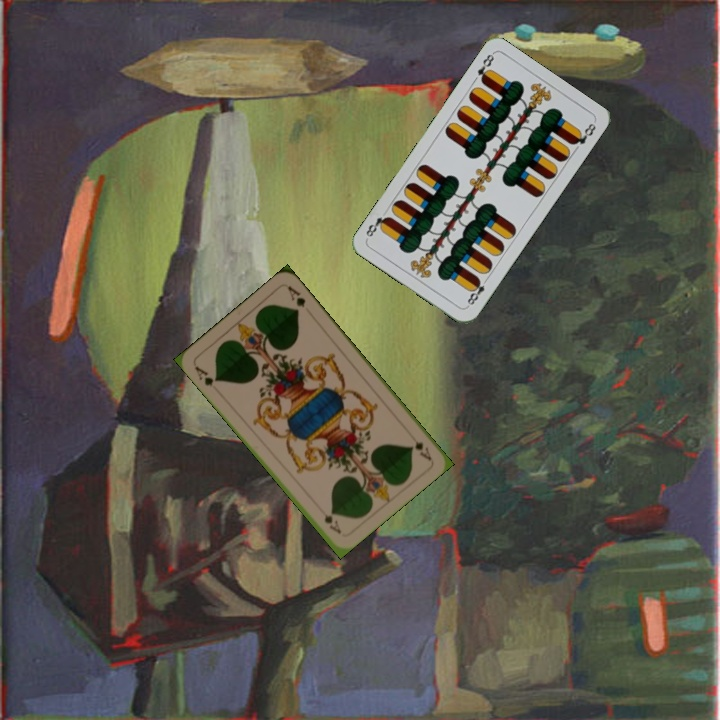E8: (463, 274, 491, 310), (473, 49, 497, 85)
GA: (404, 429, 434, 463), (190, 362, 220, 389)
